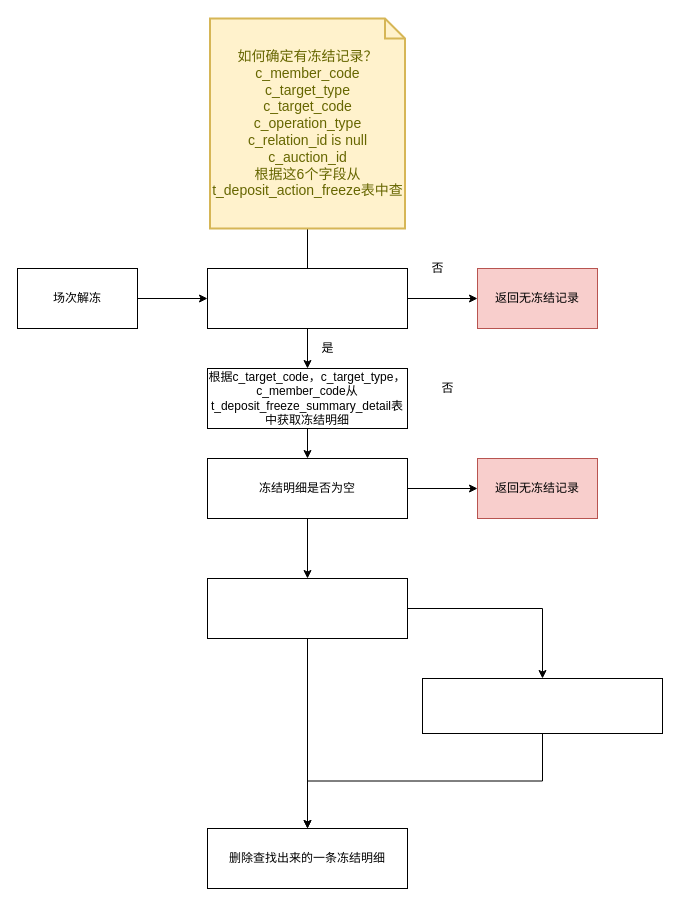
The diagram is 680 pixels wide and 906 high, and some of its shapes have lost their labels. The centre of each missing label's shape, as x and y in pixels:
"是否只有一条冻结明细了" goes at pixel 307 608.
"查询是否有冻结记录 查的是t_deposit_action_freeze表" goes at pixel 307 298.
"解冻t_deposit_action_freeze表中的记录 更改账户冻结金额和可用余额" goes at pixel 542 706.
